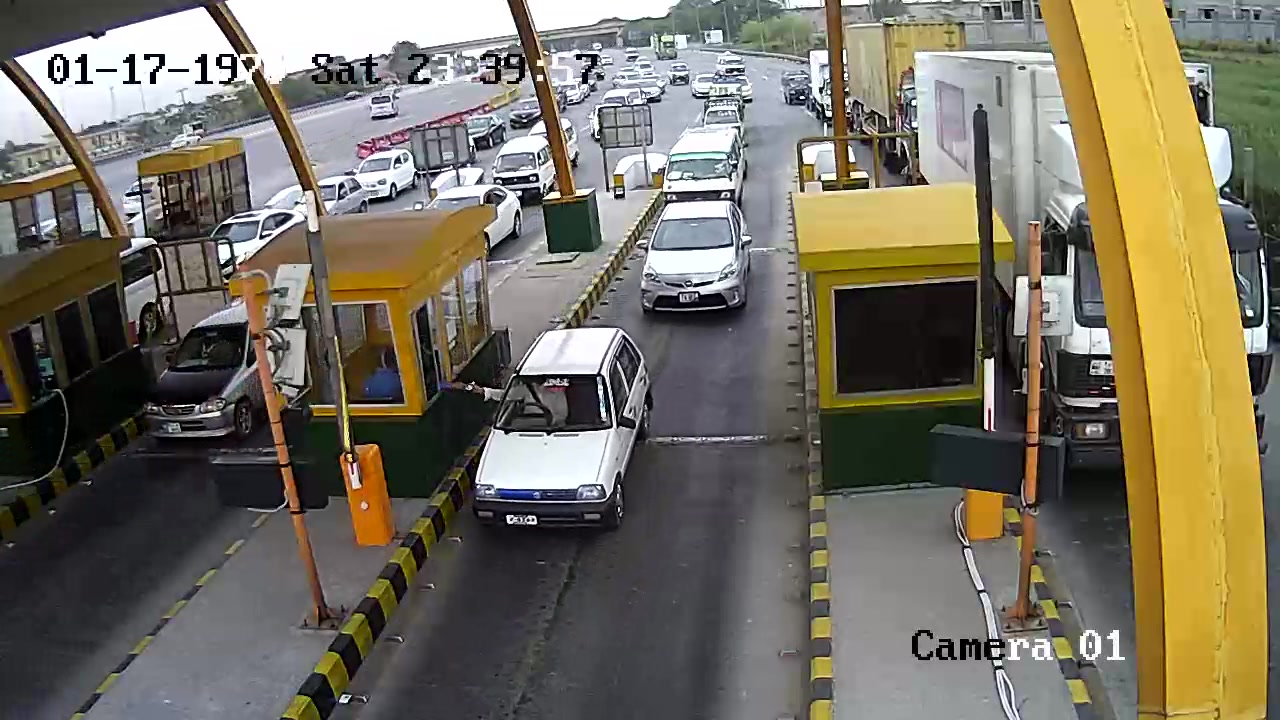F1: (469, 329, 677, 536)
